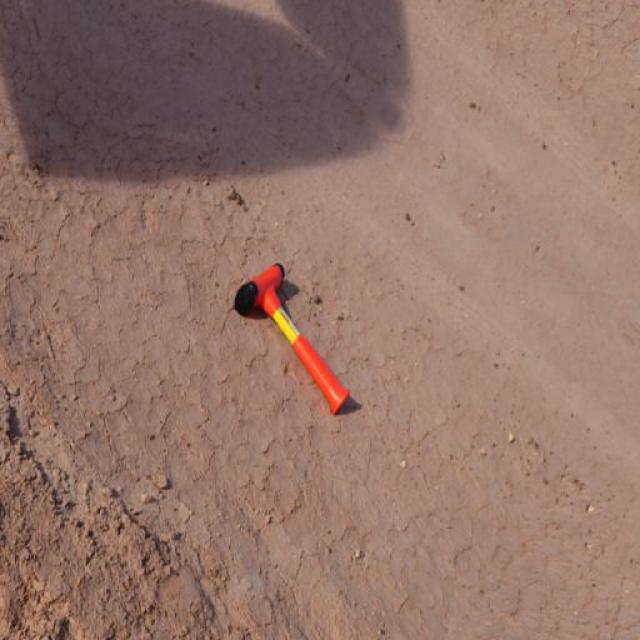mallet: (232, 260, 352, 416)
